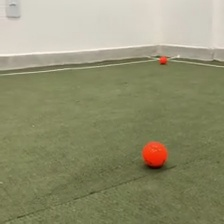ball: (140, 139, 168, 171), (158, 54, 168, 64)
